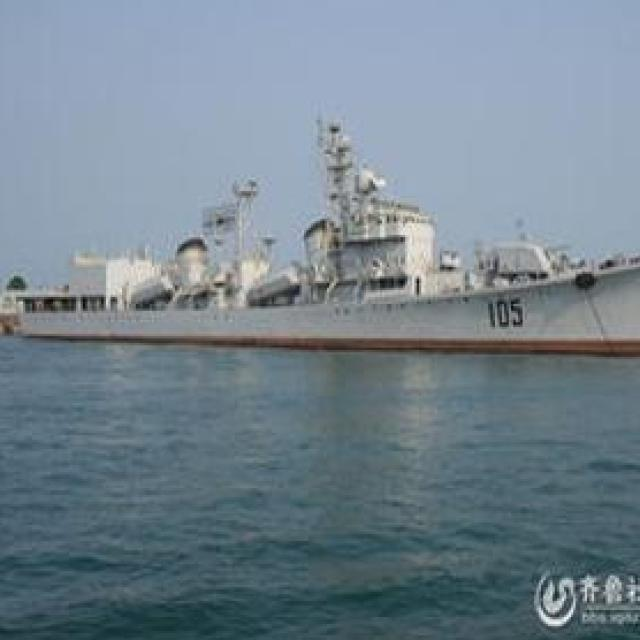navalvessels: (7, 94, 640, 354)
